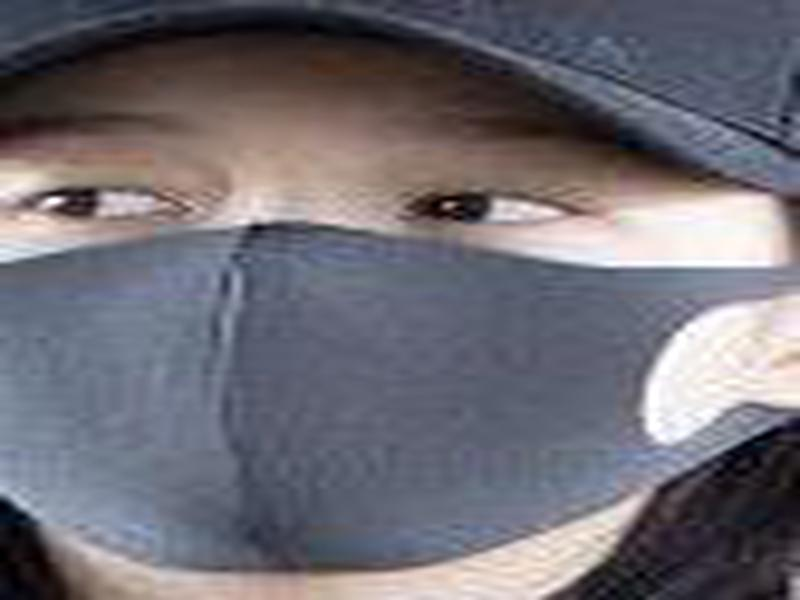with_mask: (1, 29, 795, 579)
